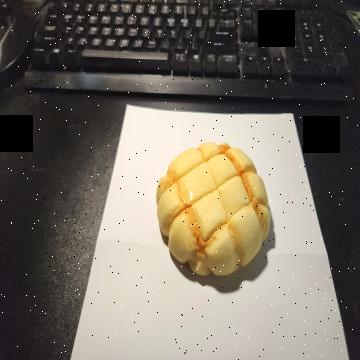melon_bread: (156, 142, 272, 277)
